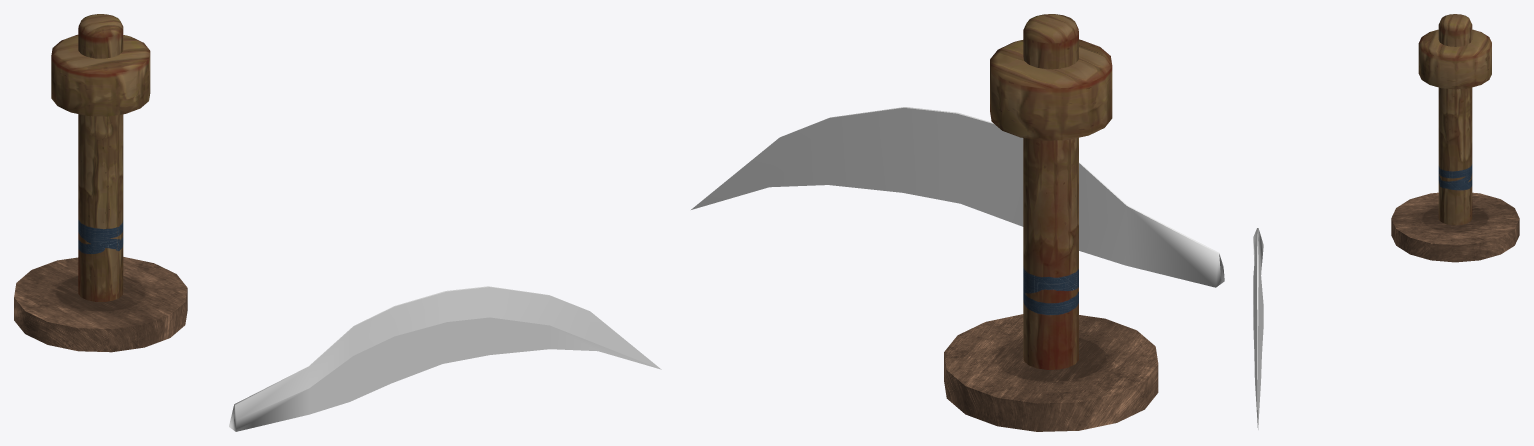
File: BladeStand.fbx
The picture shows the model from 3 angles, left to right: view 1: azimuth 30°, elevation 25°; view 2: azimuth 150°, elevation 25°; view 3: azimuth 270°, elevation 25°; orthographic projection. The views are drawn at different scales.
Visible parts, largest first — view 1: BladeStandBlade, BladeStand, BladeStandBase; view 2: BladeStandBlade, BladeStand, BladeStandBase; view 3: BladeStand, BladeStandBase, BladeStandBlade.
Part boxes in pixels (x1=…): BladeStandBlade: x1=229, y1=286, x2=661, y2=431; BladeStand: x1=51, y1=14, x2=150, y2=301; BladeStandBase: x1=14, y1=257, x2=187, y2=352; BladeStandBlade: x1=691, y1=107, x2=1224, y2=287; BladeStand: x1=990, y1=14, x2=1112, y2=369; BladeStandBase: x1=944, y1=314, x2=1158, y2=431; BladeStand: x1=1418, y1=14, x2=1491, y2=225; BladeStandBase: x1=1391, y1=192, x2=1519, y2=262; BladeStandBlade: x1=1253, y1=228, x2=1263, y2=429.
Bounding box in the file's own units: 1.67 × 1.13 × 1.04.
